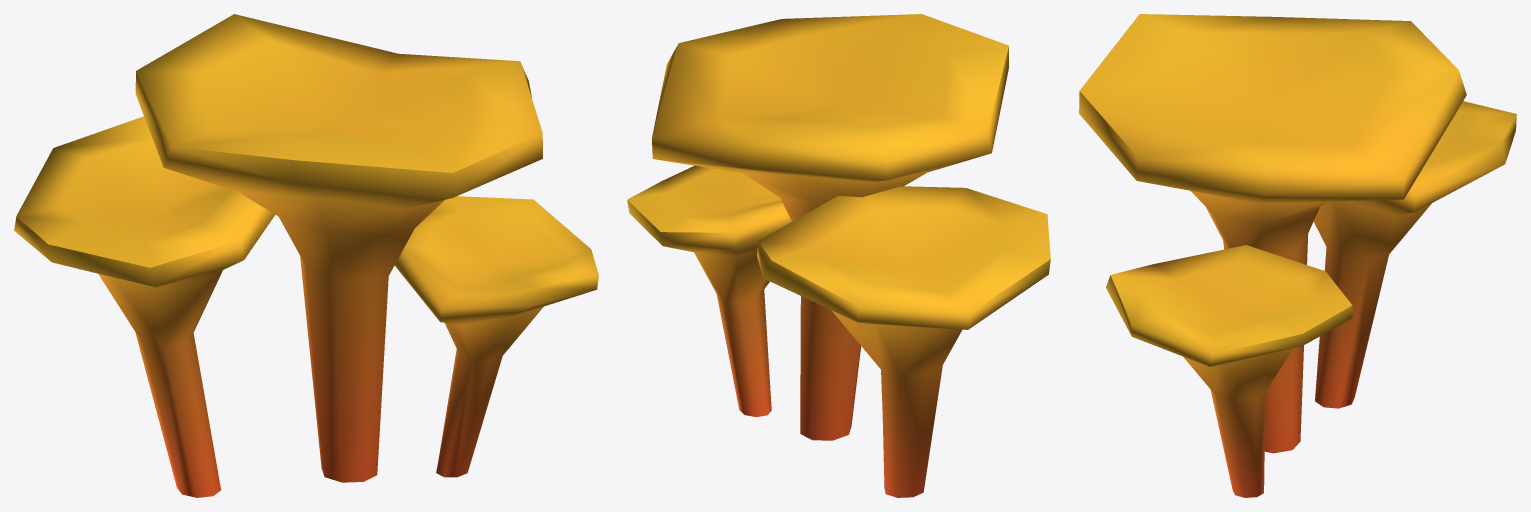
File: mushroom_cibarius_3.glb
3 renders of one model, left to right at view 1: azimuth 30°, elevation 25°; view 2: azimuth 150°, elevation 25°; view 3: azimuth 270°, elevation 25°, orthographic. The views are drawn at different scales.
Parts seen in each view (by area): view 1: mushroom_cibarius_3; view 2: mushroom_cibarius_3; view 3: mushroom_cibarius_3.
Boxes of the visible parts, x1,y1,x2,y2 form: mushroom_cibarius_3: [14, 14, 598, 497]; mushroom_cibarius_3: [627, 14, 1050, 497]; mushroom_cibarius_3: [1079, 14, 1516, 497].
Size of the model in its own units: 0.446 by 0.36 by 0.3742.
Materials: 1 (1 with a texture image).
